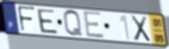1: (119, 15, 131, 41)
E: (82, 9, 106, 39), (36, 8, 60, 35)
F: (16, 5, 37, 34)
Q: (62, 9, 84, 38)
X: (129, 15, 152, 44)
